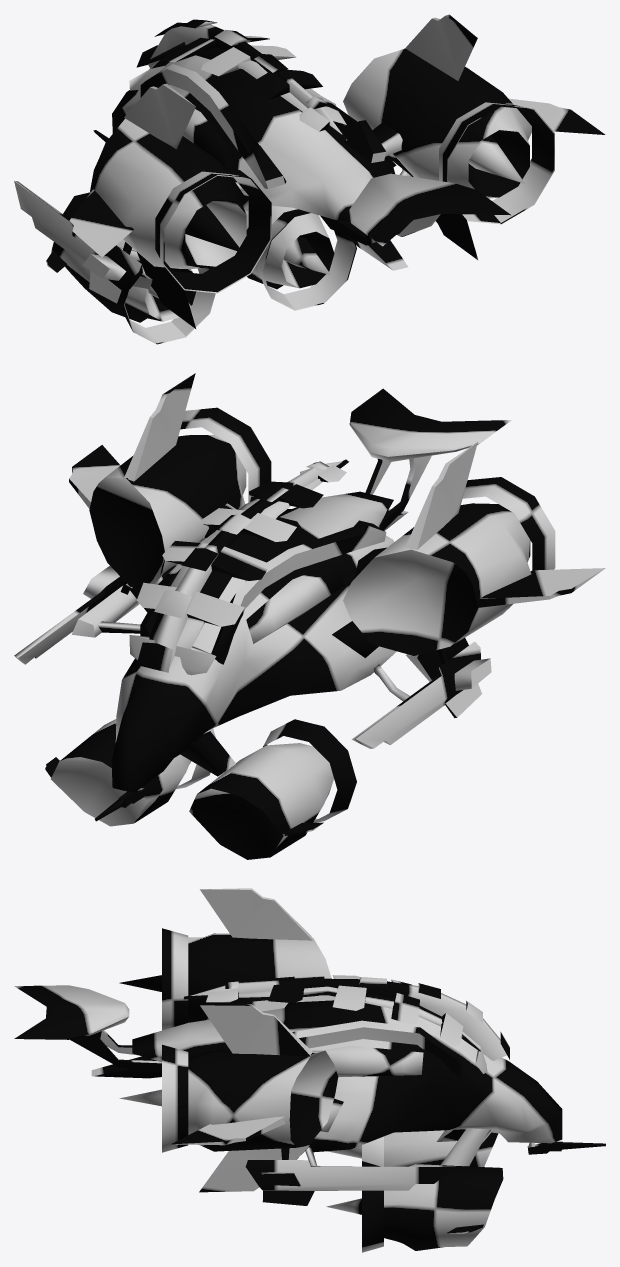
The model's file is streuner_boss.obj.
The picture shows the model from 3 angles, top to bottom: view 1: azimuth 30°, elevation 25°; view 2: azimuth 150°, elevation 25°; view 3: azimuth 270°, elevation 25°; orthographic projection. The views are drawn at different scales.
Parts seen in each view (by area): view 1: streuner_boss; view 2: streuner_boss; view 3: streuner_boss.
Boxes of the visible parts, x1,y1,x2,y2 form: streuner_boss: (14, 14, 605, 344); streuner_boss: (14, 373, 605, 859); streuner_boss: (14, 888, 605, 1252).
Bounding box in the file's own units: 1.56 × 0.9736 × 1.89.
1 material, 1 textured.
